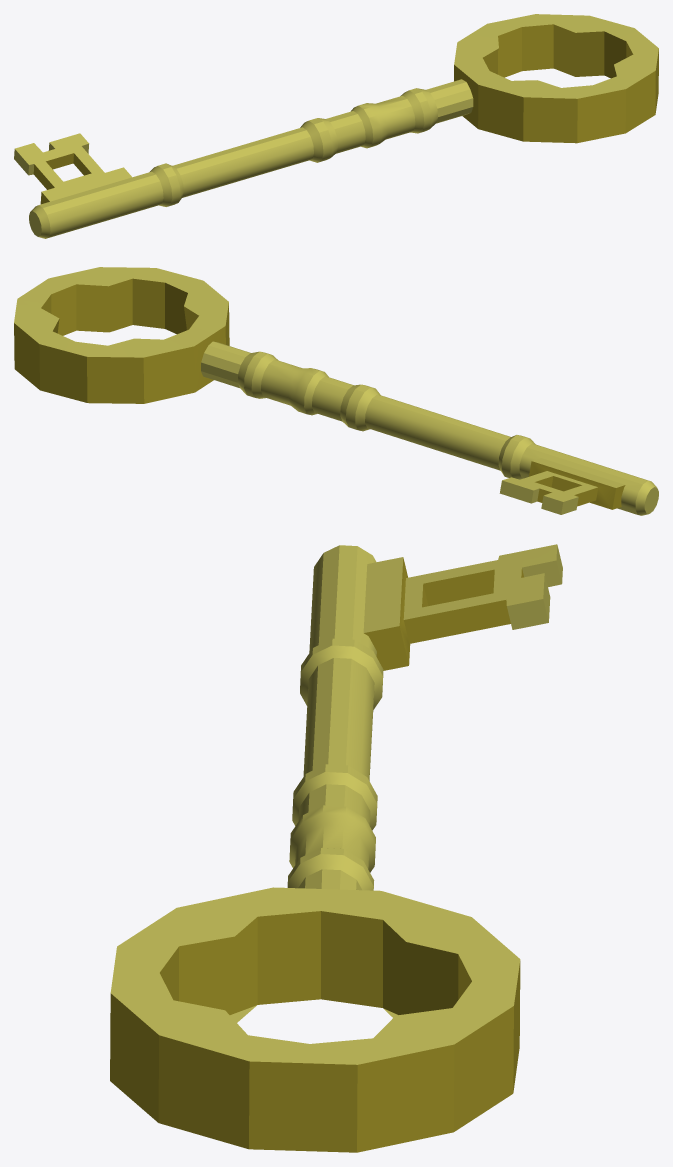
Rendered from Key.fbx.
3 views of the same model, one above another, from view 1: azimuth 30°, elevation 25°; view 2: azimuth 150°, elevation 25°; view 3: azimuth 270°, elevation 25° (orthographic). The views are drawn at different scales.
Parts seen in each view (by area): view 1: pCylinder19; view 2: pCylinder19; view 3: pCylinder19.
Boxes of the visible parts, x1,y1,x2,y2 form: pCylinder19: (14, 14, 658, 238); pCylinder19: (14, 267, 658, 515); pCylinder19: (110, 544, 562, 1152).
Bounding box in the file's own units: 96.06 × 9.82 × 31.26.
